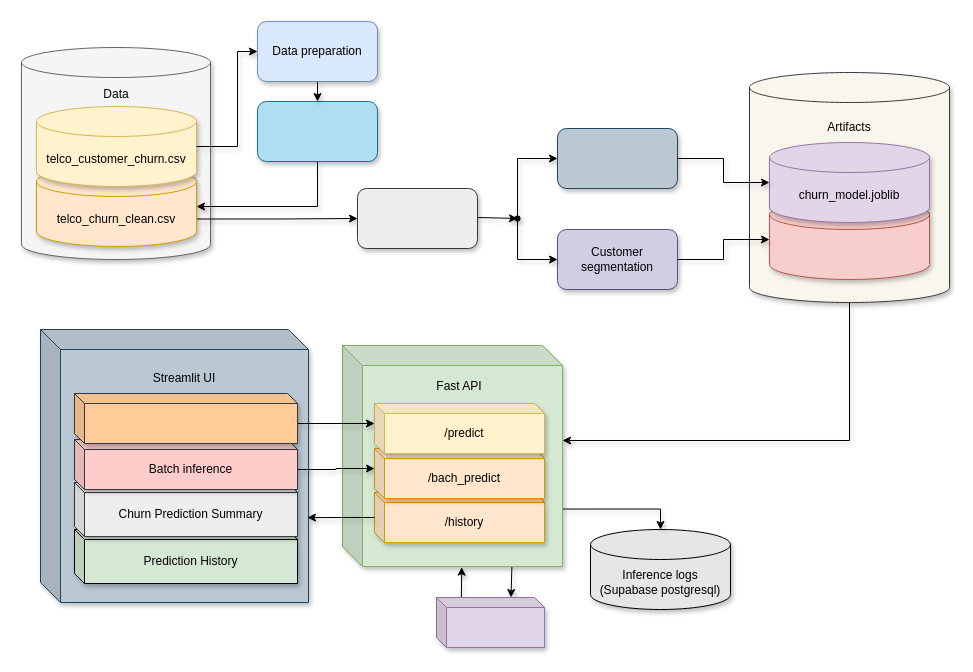
The diagram is 973 pixels wide and 672 high, and some of its shapes have lost their labels. Here are the shapes that lost their labels. From the top down, the centre of each, then its label:
At pixel 318 132: "Feature engineering".
At pixel 618 160: "Churn modeling".
At pixel 418 220: "EDA".
At pixel 850 240: "cluster_model.joblib".
At pixel 187 419: "Real time inference".
At pixel 491 623: "Retention Engine".
